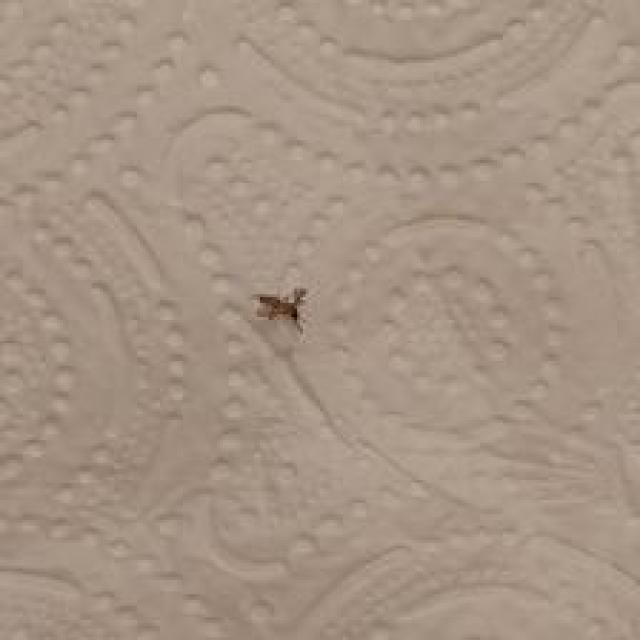Culex: (250, 284, 310, 333)
